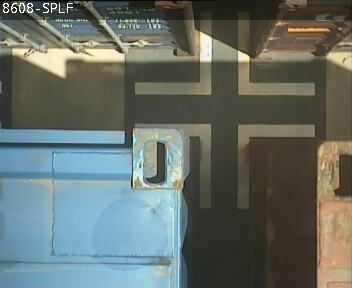groundmarker_1: (133, 122, 316, 207), (133, 10, 316, 95)
